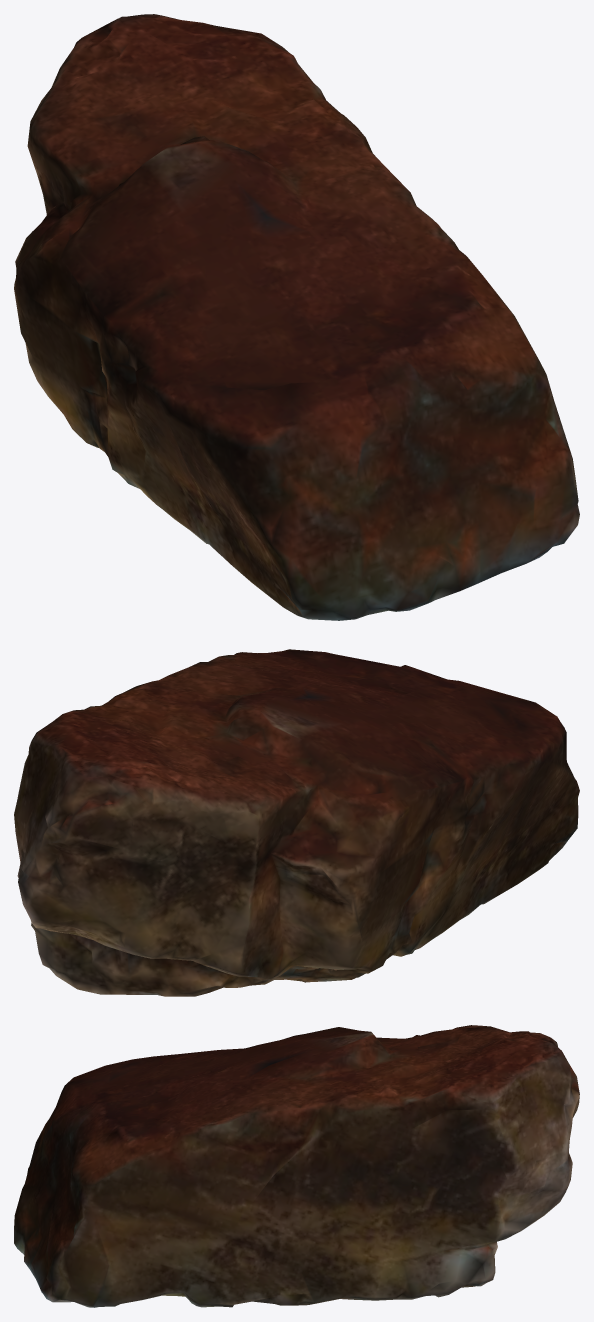
File: rock_07.glb
The picture shows the model from 3 angles, top to bottom: view 1: azimuth 30°, elevation 25°; view 2: azimuth 150°, elevation 25°; view 3: azimuth 270°, elevation 25°; orthographic projection. The views are drawn at different scales.
Visible parts, largest first — view 1: rock_07; view 2: rock_07; view 3: rock_07.
Boxes of the visible parts, x1=… form: rock_07: x1=14, y1=14, x2=579, y2=620; rock_07: x1=14, y1=649, x2=579, y2=996; rock_07: x1=14, y1=1025, x2=579, y2=1307.
Bounding box in the file's own units: 0.1681 × 0.1437 × 0.3199.
1 material, 1 textured.
